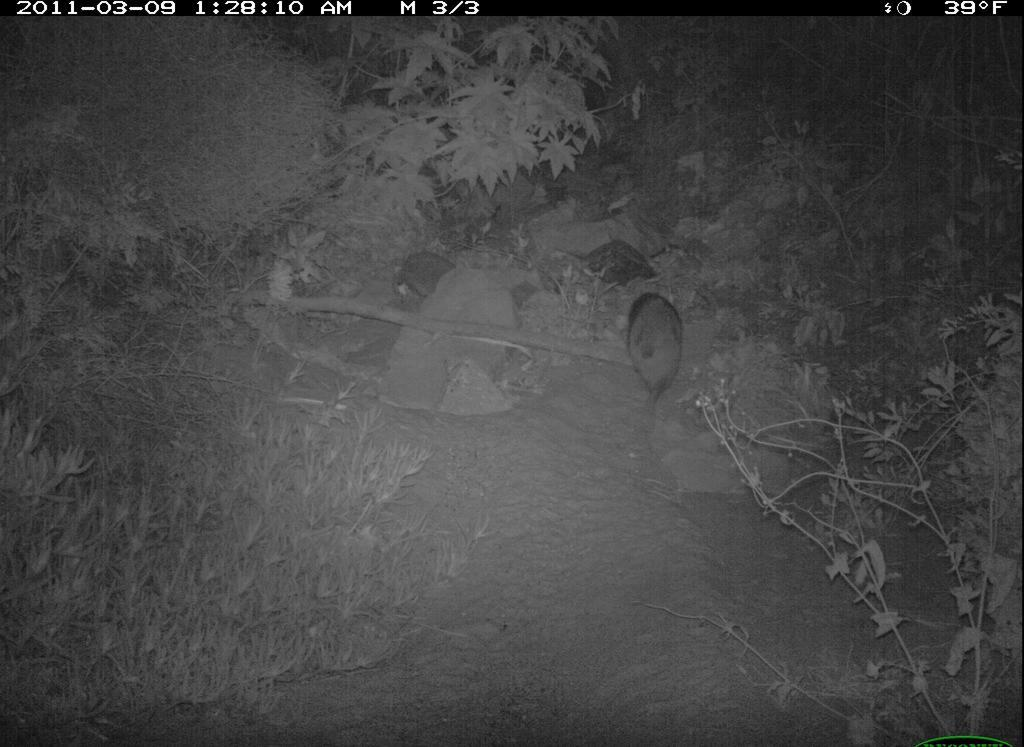raccoon: (620, 283, 696, 409)
